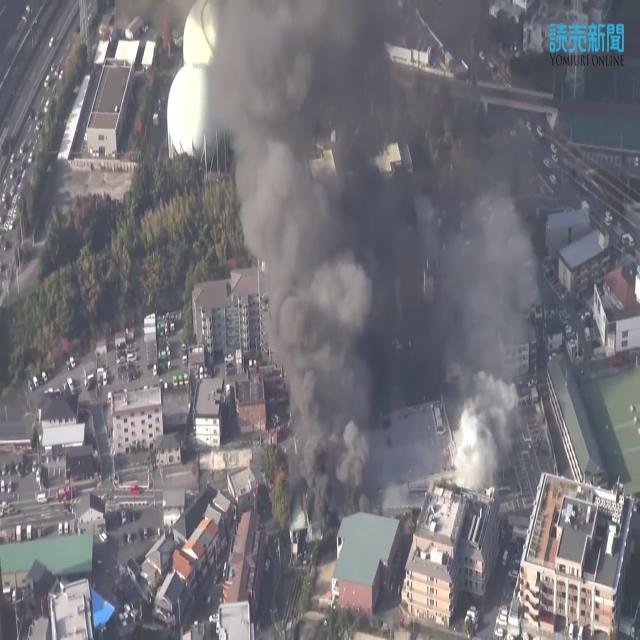Smoke: (220, 1, 536, 536)
